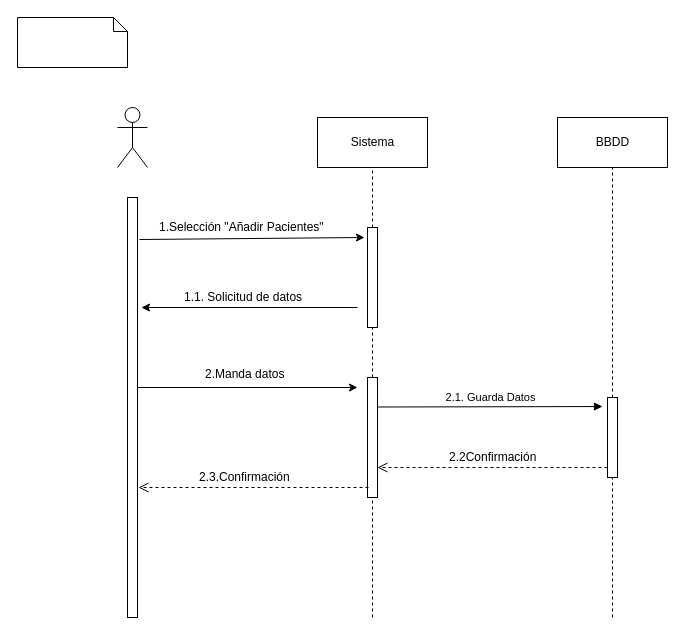
Some shapes in this 685 by 636 pixel diagram are drawn without their labels. The centre of each missing label's shape, as x and y in pixels:
"Añadir Pacientes" goes at (x=72, y=42).
"Secretario" goes at (x=132, y=137).
